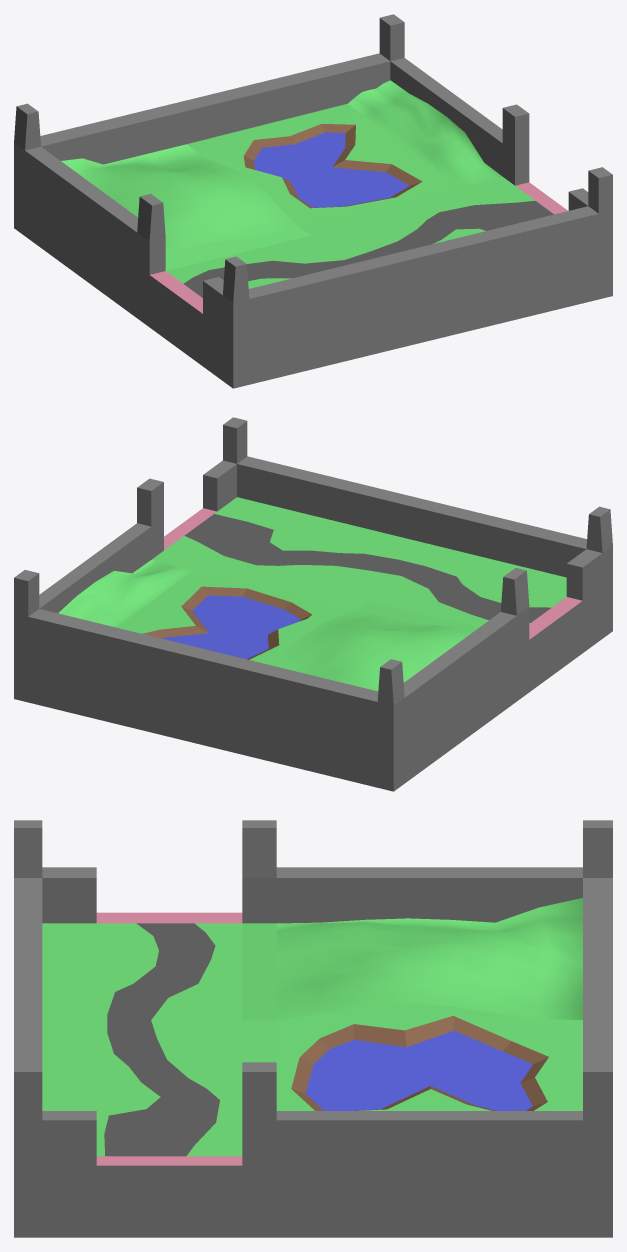
Rendered from Park_2x2.fbx.
The picture shows the model from 3 angles, top to bottom: view 1: azimuth 30°, elevation 25°; view 2: azimuth 150°, elevation 25°; view 3: azimuth 270°, elevation 25°; orthographic projection. The views are drawn at different scales.
Parts seen in each view (by area): view 1: Park 2x2; view 2: Park 2x2; view 3: Park 2x2.
Boxes of the visible parts, left/top/right/bottom form: Park 2x2: left=14, top=14, right=612, bottom=388; Park 2x2: left=14, top=417, right=612, bottom=791; Park 2x2: left=14, top=820, right=612, bottom=1237.
Size of the model in its own units: 400 by 122 by 400.
